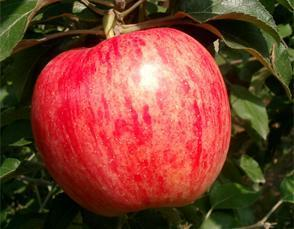apple: (29, 27, 234, 210)
